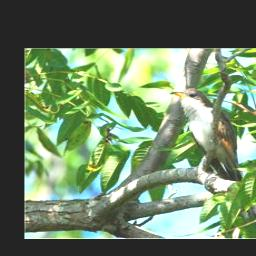Cuckoo: (170, 87, 244, 180)
